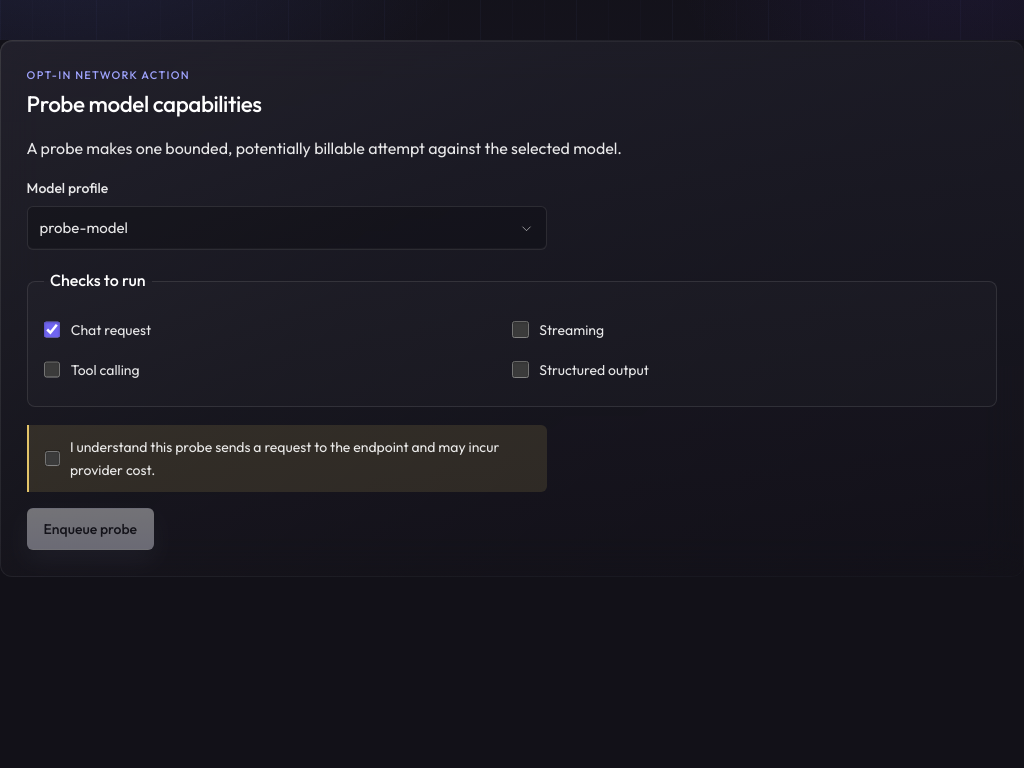
Test: probe remains disabled until cost is explicitly acknowledged
Expected: the button "Enqueue probe" is disabled, [27, 508, 154, 550]
Click the checkbox labelled "I understand this probe".
click(52, 459)  # box [45, 450, 60, 467]
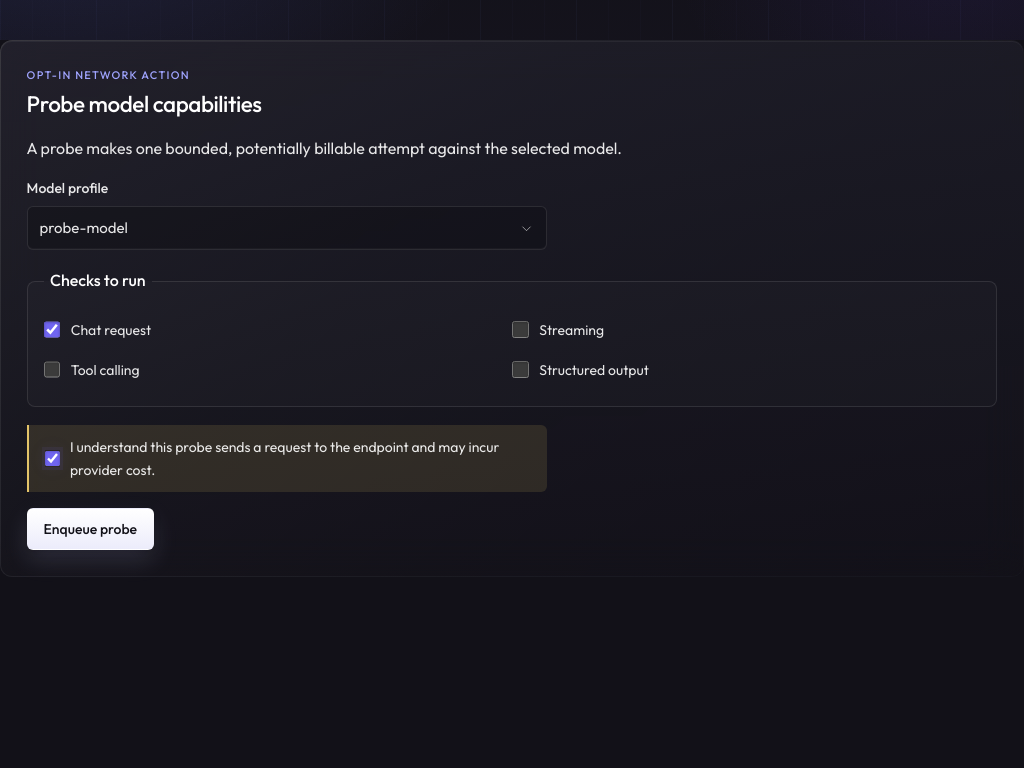
Result: the button "Enqueue probe" is enabled at [27, 508, 154, 550]
